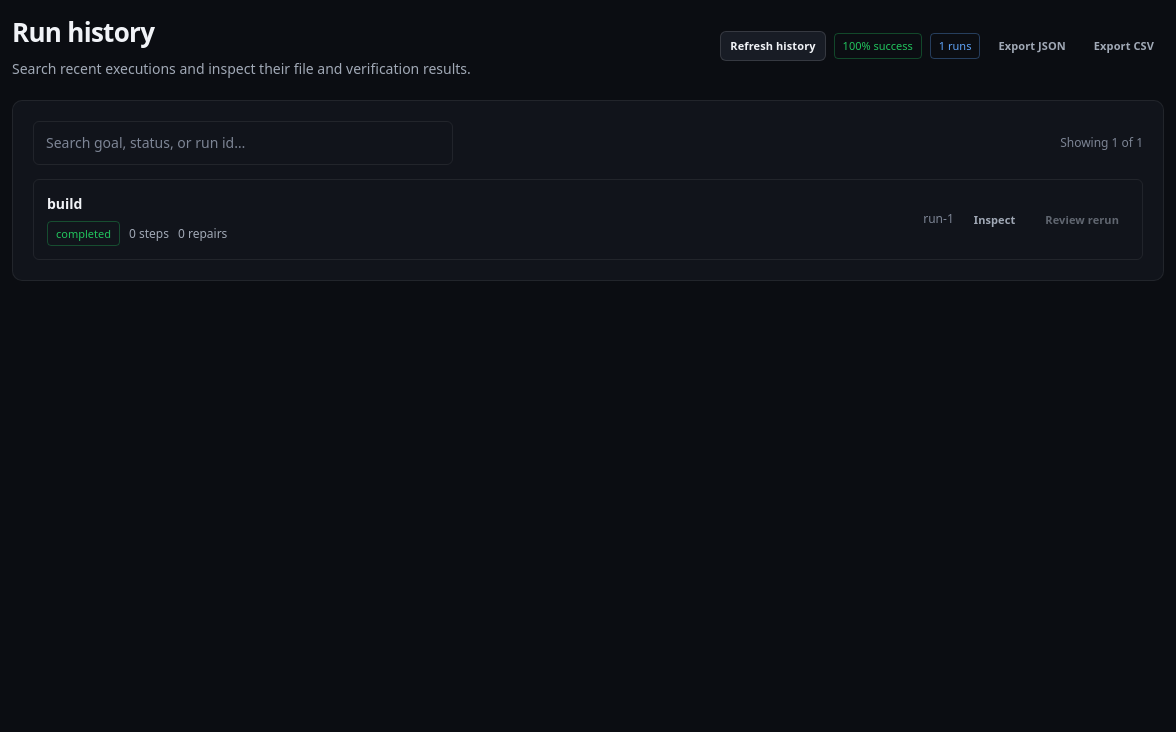
it: Run history recovery › shows detail loading immediately and keeps errors recoverable
Click the button "Inspect" at (995, 220), box [964,205,1025,234]
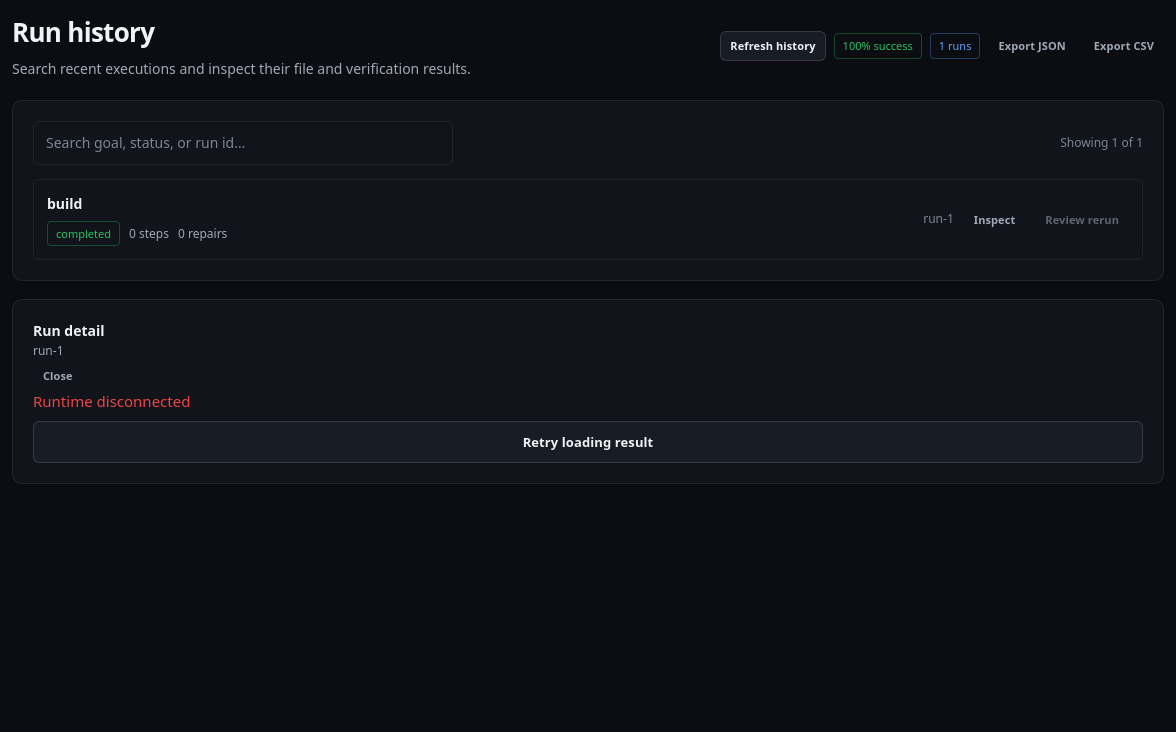
Expected: the text "Loading run result…" is shown, [33,390,1143,463]
Expected: the message shows "Runtime disconnected", [33,391,190,411]
Click the button "Retry loading result" at (588, 442), box [33,421,1143,463]
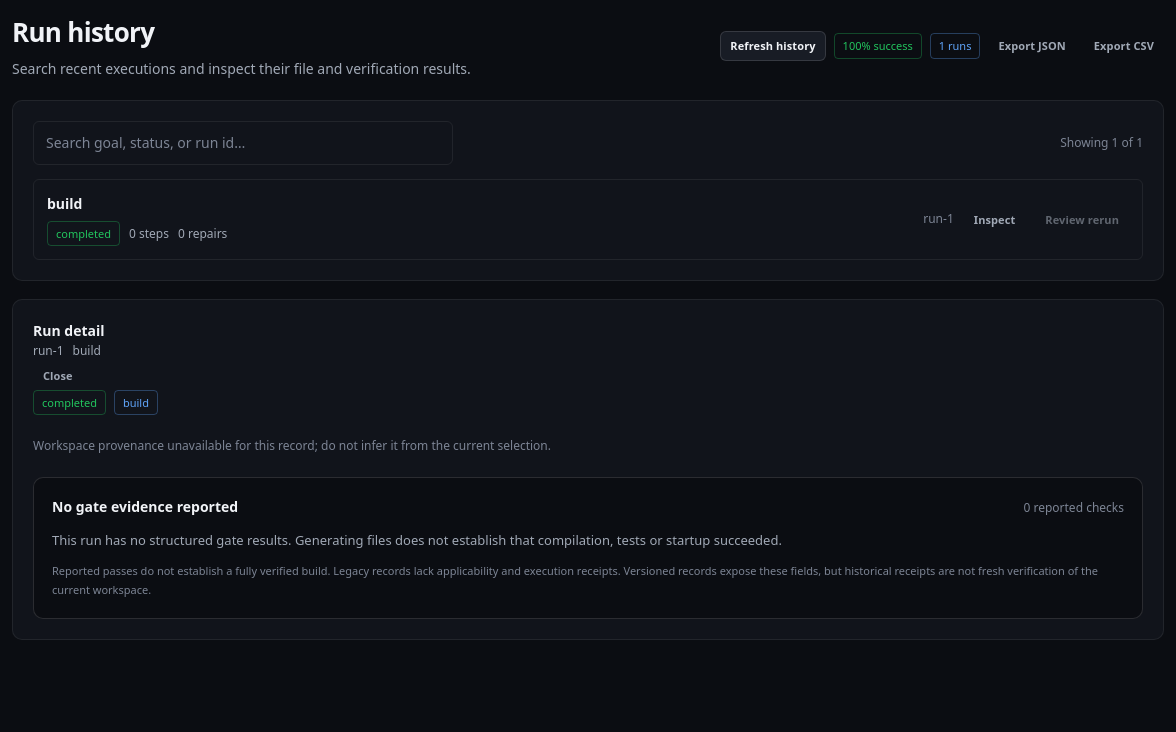
Expected: the message "Runtime disconnected Retry loading result" is gone
